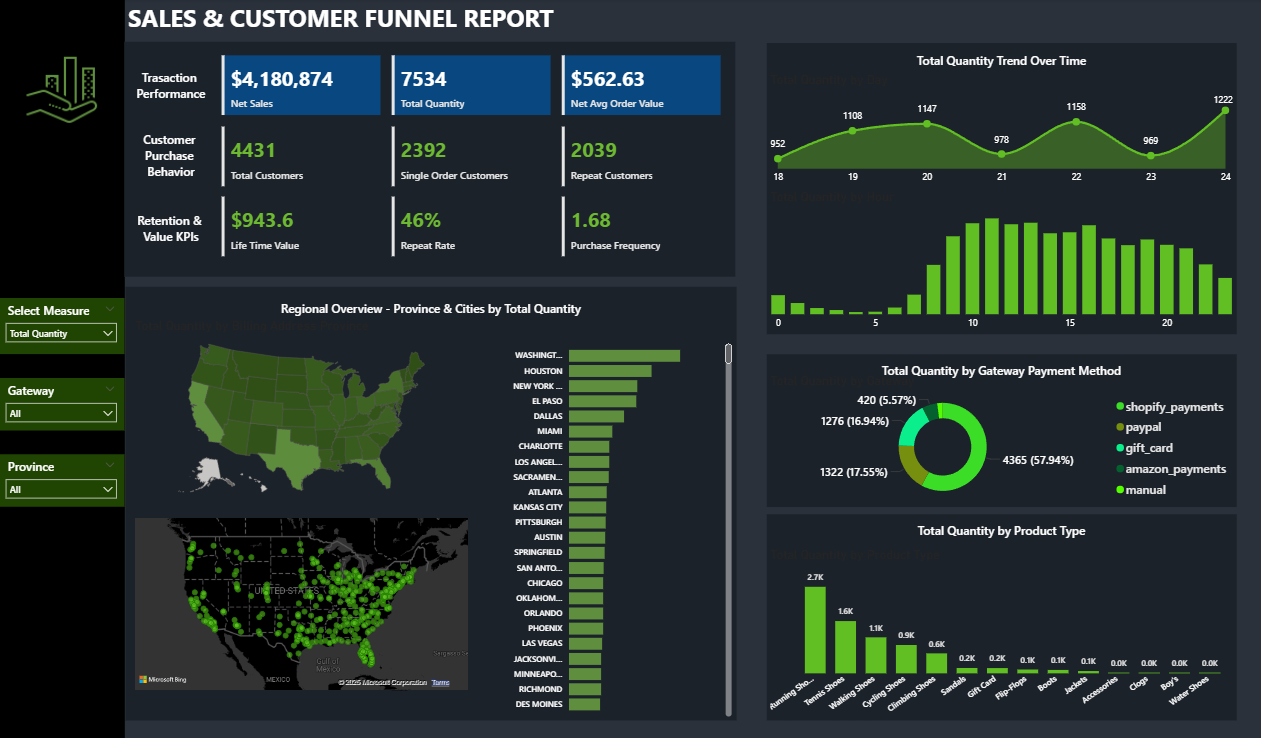

This screenshot's page, from the dashboard's own definition file:
{"tool":"powerbi","page":{"name":"Shopify Analysis","canvas":[1700,1000],"ordinal":0},"visuals":[{"type":"shape","box":[0,0,170,999],"z":0},{"type":"textbox","box":[169.2,0,754,58.6],"z":1000},{"type":"shape","box":[169.2,58.6,819.4,315],"z":2000},{"type":"cardVisual","fields":{"Data":["shopify_sales.Net Sales","shopify_sales.Total Quantity","shopify_sales.Net Avg Order Value"]},"box":[294.9,72.1,680.3,90.5],"z":3000},{"type":"card","fields":{"Values":["shopify_sales.Transaction Perf"]},"box":[169.2,82.1,125.7,70.4],"z":4000},{"type":"cardVisual","fields":{"Data":["shopify_sales.Total Customers","shopify_sales.Single Order Customers","shopify_sales.Repeat Customers"]},"box":[294.9,166.7,680.3,90.5],"z":5000},{"type":"card","fields":{"Values":["shopify_sales.Customer Purchase Behavior"]},"box":[169.2,160,125.7,93.8],"z":6000},{"type":"cardVisual","fields":{"Data":["shopify_sales.Life Time Value","shopify_sales.Repeat Rate","shopify_sales.Purchase Frequency"]},"box":[294.9,261.4,680.3,90.5],"z":7000},{"type":"card","fields":{"Values":["shopify_sales.Retention & Value KPIs"]},"box":[169.2,261.4,125.7,93.8],"z":8000},{"type":"shape","box":[170.9,387.1,819.4,581.4],"z":9000},{"type":"shapeMap","fields":{"Value":["shopify_sales.Total Customers"],"Category":["shopify_sales.Billing Address Province"]},"box":[179.3,429,455.8,249.7],"z":10000},{"type":"slicer","fields":{"Values":["Select Measure.Select Measure"]},"box":[0,402.1,169.2,75.4],"z":11000},{"type":"map","fields":{"Category":["shopify_sales.Location"]},"box":[179.3,692,455.8,241.3],"z":12000},{"type":"clusteredBarChart","fields":{"Y":["shopify_sales.Total Customers"],"Category":["shopify_sales.CITY"]},"box":[673.6,450.7,315,517.8],"z":13000},{"type":"card","fields":{"Values":["shopify_sales.Map Title"]},"box":[316.7,402.1,527.8,33.5],"z":14000},{"type":"shape","box":[1030.5,60.3,630,390.4],"z":15000},{"type":"areaChart","fields":{"Y":["shopify_sales.Total Customers"],"Category":["shopify_sales.Invoice Date.Variation.Date Hierarchy.Day"]},"box":[1030.5,98.9,630,159.2],"z":16000},{"type":"clusteredColumnChart","fields":{"Y":["shopify_sales.Total Customers"],"Category":["shopify_sales.Hour"]},"box":[1030.5,256.4,630,197.7],"z":17000},{"type":"card","fields":{"Values":["shopify_sales.Trend Title"]},"box":[1204.8,72.1,281.5,26.8],"z":18000},{"type":"shape","box":[1030.5,477.5,630,205],"z":19000},{"type":"donutChart","fields":{"Y":["shopify_sales.Total Customers"],"Category":["shopify_sales.Gateway"]},"box":[1030.5,502.7,630,179.3],"z":20000},{"type":"card","fields":{"Values":["shopify_sales.Gateway Title"]},"box":[1151.1,487.6,388.7,28.5],"z":21000},{"type":"shape","box":[1030.5,692,630,276.5],"z":22000},{"type":"columnChart","fields":{"Y":["shopify_sales.Total Customers"],"Category":["shopify_sales.Product Type"]},"box":[1030.5,735.6,630,232.9],"z":23000},{"type":"card","fields":{"Values":["shopify_sales.Product Title"]},"box":[1142.8,697.1,405.5,38.5],"z":24000},{"type":"slicer","fields":{"Values":["shopify_sales.Gateway"]},"box":[0,509.4,169.2,70.4],"z":26000},{"type":"slicer","fields":{"Values":["shopify_sales.Billing Address Province"]},"box":[0,611.6,169.2,70.4],"z":27000},{"type":"image","box":[23.5,60.3,124,125.7],"z":27001}]}

Visuals, with their boxes on the page's 1700x1000 design canvas (x1, y1, x2, y2). These are canvas units, not pixel positions in the 1261x738 screenshot, which may show the page scaled, cropped or inside an application window:
shape: 0,0,170,999
textbox: 169,0,923,59
shape: 169,59,989,374
cardVisual - shopify_sales.Net Sales x shopify_sales.Total Quantity: 295,72,975,163
card - shopify_sales.Transaction Perf: 169,82,295,152
cardVisual - shopify_sales.Total Customers x shopify_sales.Single Order Customers: 295,167,975,257
card - shopify_sales.Customer Purchase Behavior: 169,160,295,254
cardVisual - shopify_sales.Life Time Value x shopify_sales.Repeat Rate: 295,261,975,352
card - shopify_sales.Retention & Value KPIs: 169,261,295,355
shape: 171,387,990,968
shapeMap - shopify_sales.Total Customers x shopify_sales.Billing Address Province: 179,429,635,679
slicer - Select Measure.Select Measure: 0,402,169,478
map - shopify_sales.Location: 179,692,635,933
clusteredBarChart - shopify_sales.Total Customers x shopify_sales.CITY: 674,451,989,968
card - shopify_sales.Map Title: 317,402,844,436
shape: 1030,60,1660,451
areaChart - shopify_sales.Total Customers x shopify_sales.Invoice Date.Variation.Date Hierarchy.Day: 1030,99,1660,258
clusteredColumnChart - shopify_sales.Total Customers x shopify_sales.Hour: 1030,256,1660,454
card - shopify_sales.Trend Title: 1205,72,1486,99
shape: 1030,478,1660,682
donutChart - shopify_sales.Total Customers x shopify_sales.Gateway: 1030,503,1660,682
card - shopify_sales.Gateway Title: 1151,488,1540,516
shape: 1030,692,1660,968
columnChart - shopify_sales.Total Customers x shopify_sales.Product Type: 1030,736,1660,968
card - shopify_sales.Product Title: 1143,697,1548,736
slicer - shopify_sales.Gateway: 0,509,169,580
slicer - shopify_sales.Billing Address Province: 0,612,169,682
image: 24,60,148,186
